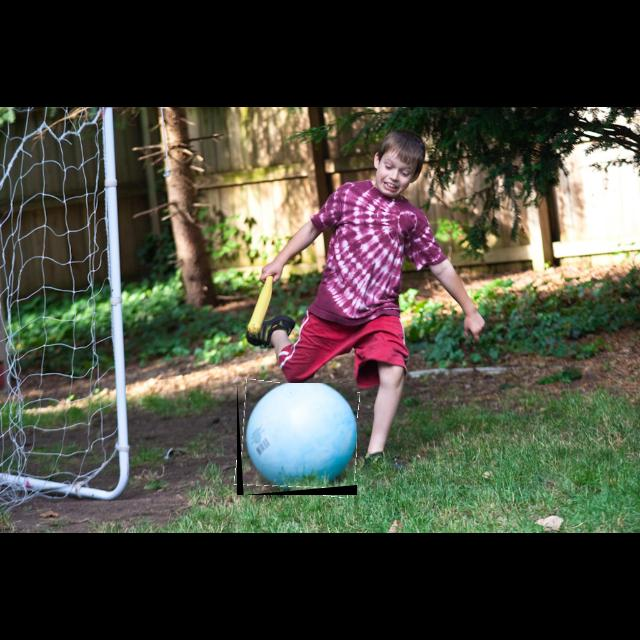Football: (237, 383, 357, 495)
